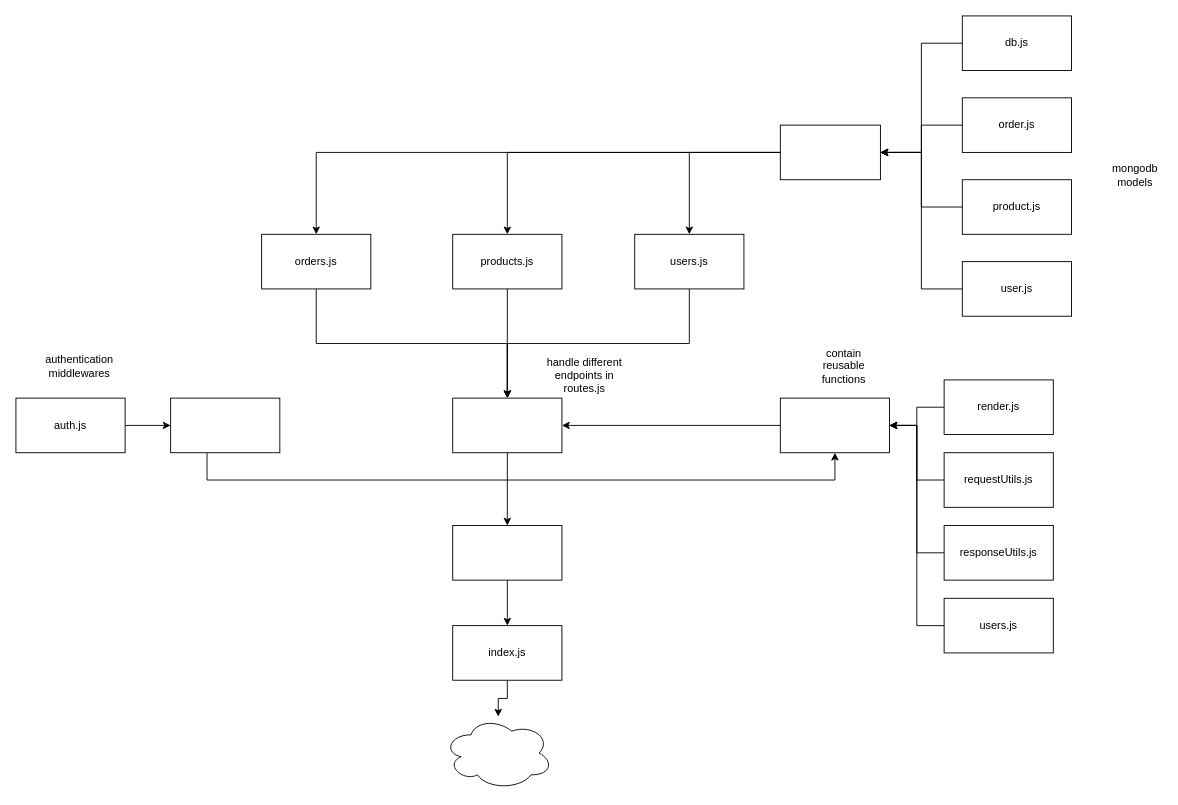
Image size: 1178x805. Some labels were removed from this diagram. The shapes that lost their labels are listed below. From the top down, each one's box as (x1, y1, x2, y2) in pixels, then its label:
(779, 124, 880, 180): models
(170, 397, 280, 453): auth
(452, 397, 562, 453): controllers
(779, 397, 890, 453): utils
(452, 525, 562, 580): routes.js
(443, 716, 553, 789): listen to port 3000
